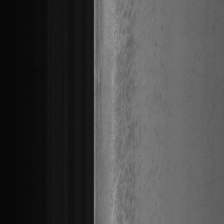silk_spot: (109, 18, 143, 207)
